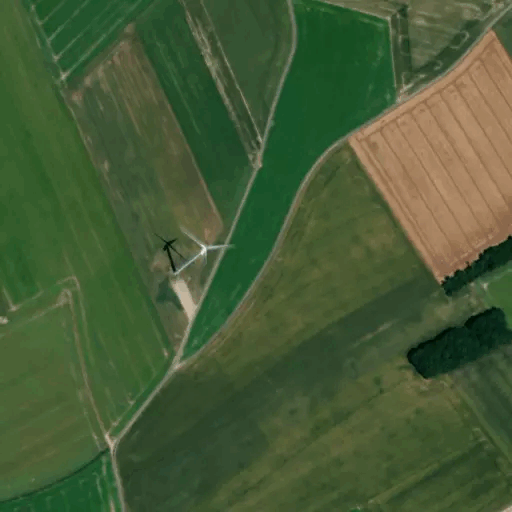wt: (149, 206, 237, 291)
